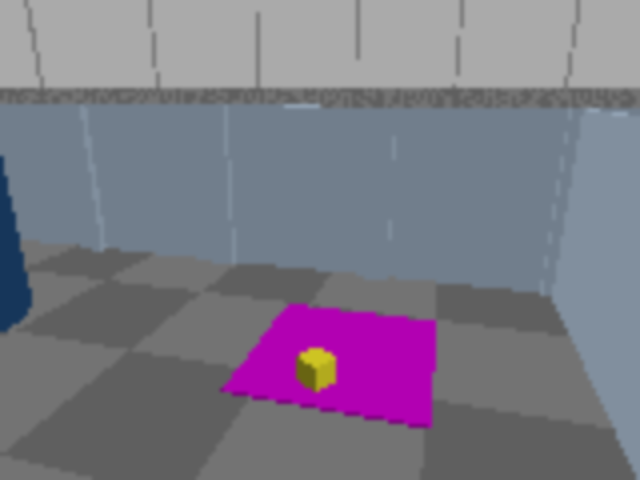person: (0, 0, 4, 386)
puck: (296, 346, 337, 396)
